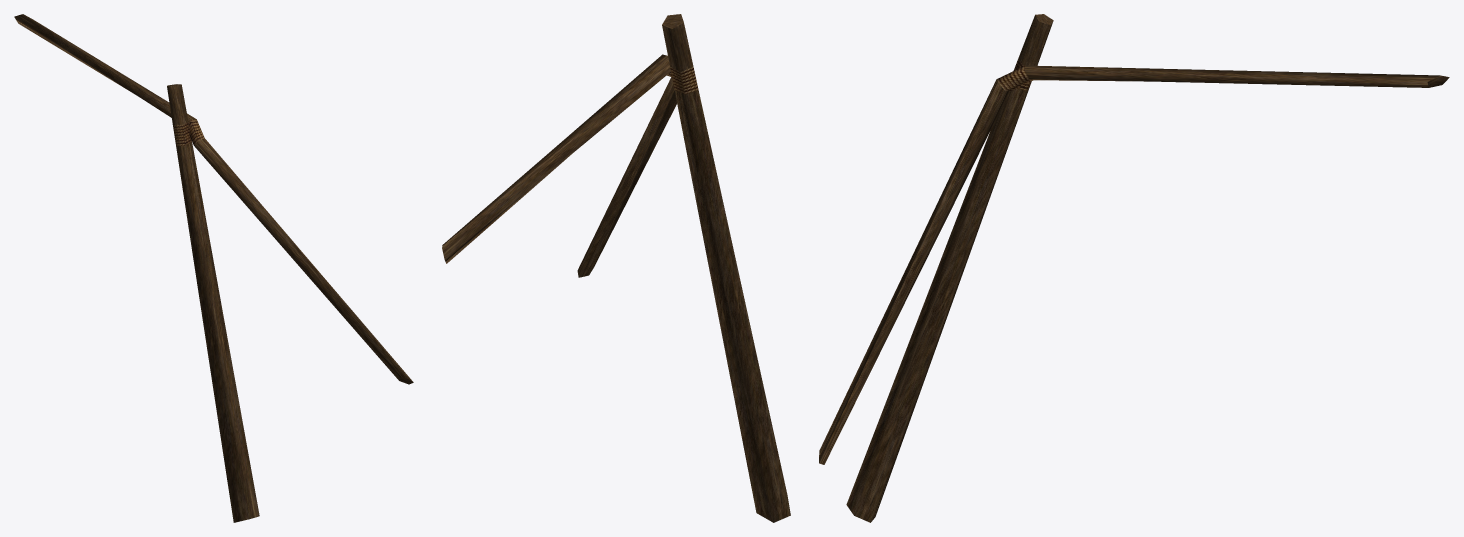
File: pir_m_shp_wrk_mastB.fbx
The picture shows the model from 3 angles, left to right: view 1: azimuth 30°, elevation 25°; view 2: azimuth 150°, elevation 25°; view 3: azimuth 270°, elevation 25°; orthographic projection. The views are drawn at different scales.
Visible parts, largest first — view 1: mast_0, boom_0; view 2: mast_0, boom_0, mast_0_rope; view 3: mast_0, boom_0.
Boxes of the visible parts, x1,y1,x2,y2 form: mast_0: (167, 84, 259, 522); boom_0: (14, 14, 413, 384); mast_0: (662, 14, 790, 522); boom_0: (442, 54, 676, 277); mast_0_rope: (670, 66, 698, 94); mast_0: (846, 14, 1053, 522); boom_0: (819, 65, 1449, 464).
Bounding box in the file's own units: 3687 × 8470 × 9630.
Materials: 1 (1 with a texture image).
